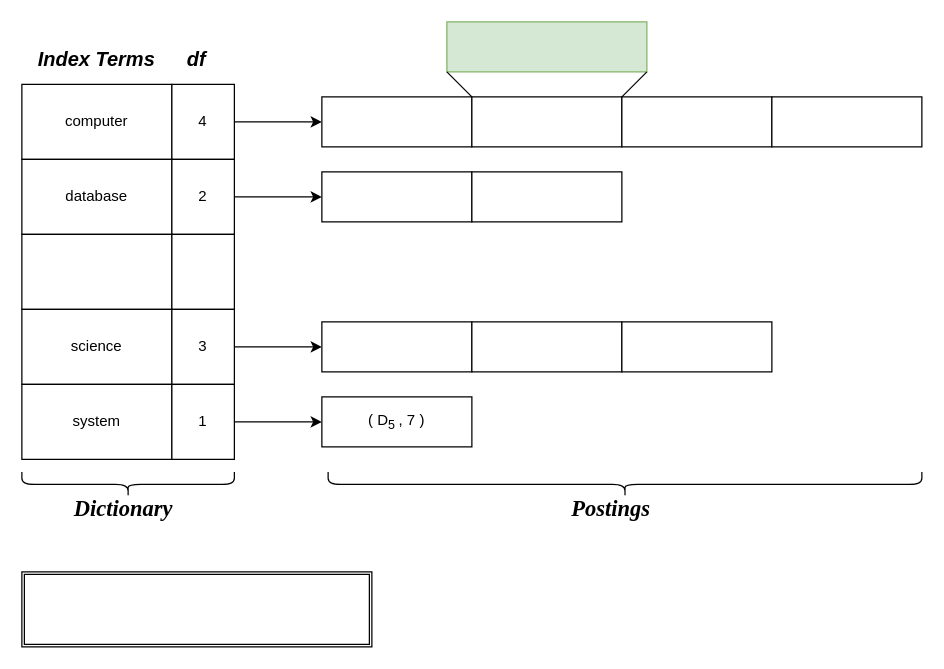
The diagram is 944 pixels wide and 669 high, and some of its shapes have lost their labels. Here are the shapes that lost their labels. From the top down, the centre of each, then its label:
the point at 546,46: ( D j , tf i )
the point at 396,121: ( D 7 , 4 )
the point at 396,196: ( D 2 , 3 )
the point at 396,346: ( D 2 , 4 )
the point at 196,609: df = global document frequency tf = local term frequency
